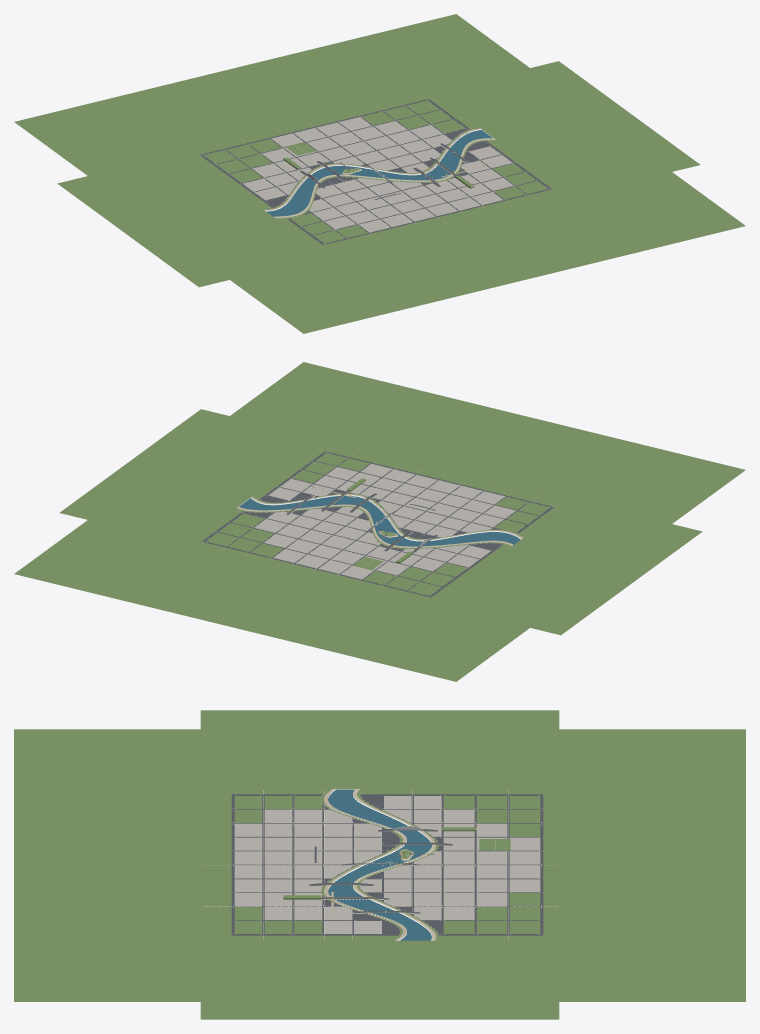
Rendered from riverbend.glb.
3 renders of one model, top to bottom at view 1: azimuth 30°, elevation 25°; view 2: azimuth 150°, elevation 25°; view 3: azimuth 270°, elevation 25°, orthographic. The views are drawn at different scales.
Visible parts, largest first — view 1: city; view 2: city; view 3: city.
Boxes of the visible parts, x1,y1,x2,y2 form: city: (14,14,745,333); city: (14,362,745,681); city: (14,710,745,1019).
Bounding box in the file's own units: 4900 × 58.5 × 4900.
